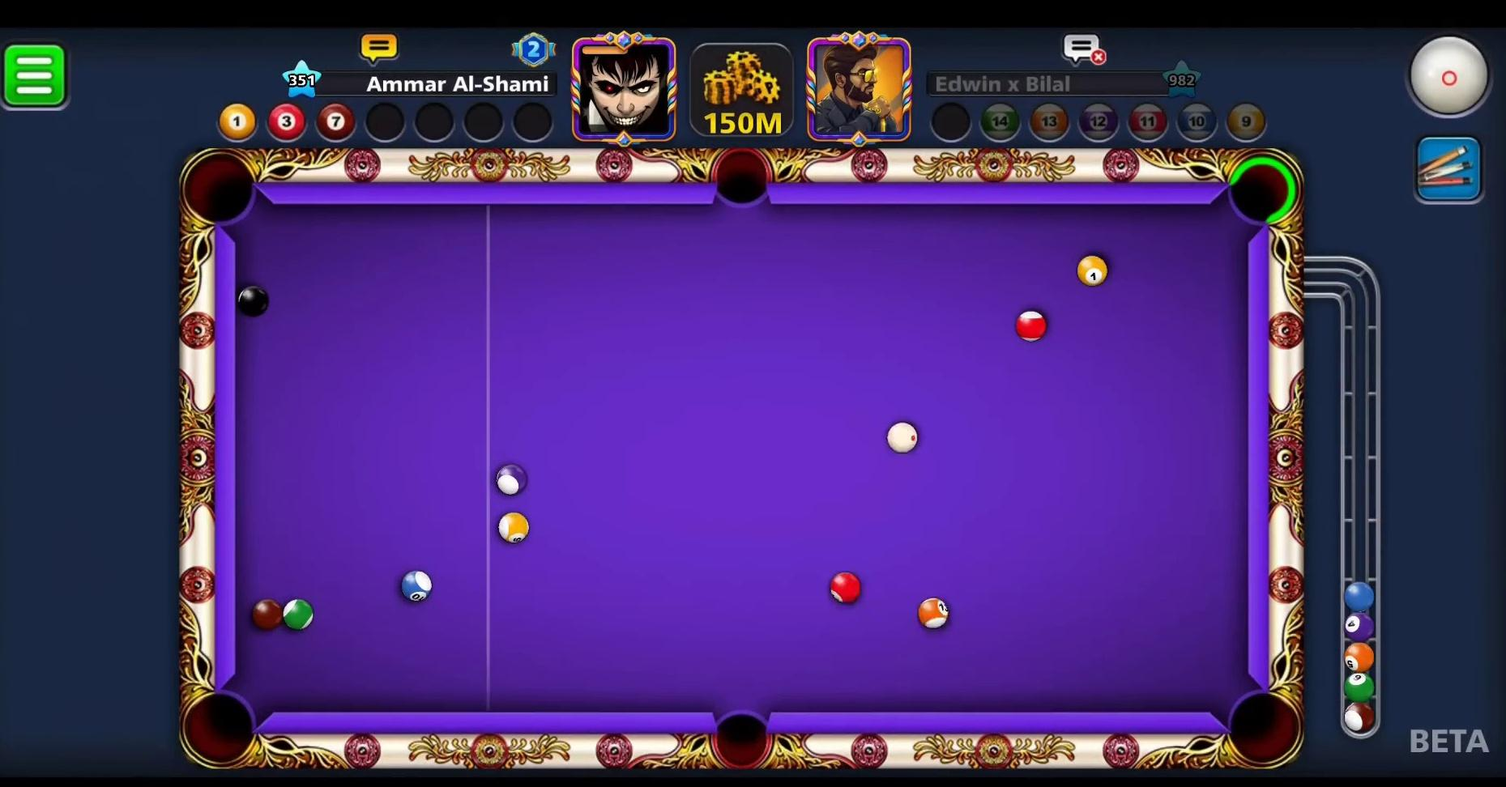Ball: (276, 585, 324, 641), (492, 504, 541, 557), (394, 566, 445, 613), (915, 588, 956, 641), (1066, 254, 1121, 292), (1005, 309, 1059, 347), (488, 461, 538, 502), (245, 588, 285, 638), (823, 571, 869, 609)
Hole: (1217, 679, 1313, 779), (698, 686, 788, 784), (176, 682, 268, 777), (1221, 137, 1303, 243), (176, 140, 260, 238), (703, 136, 784, 225)
Play_Area: (236, 205, 1249, 714)
Spin: (1403, 30, 1505, 130)
White: (873, 415, 931, 465)
